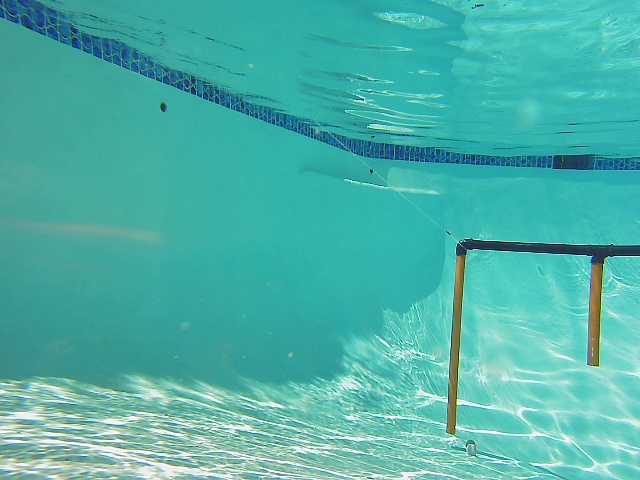Gate: (441, 252, 466, 435), (581, 258, 608, 368)
